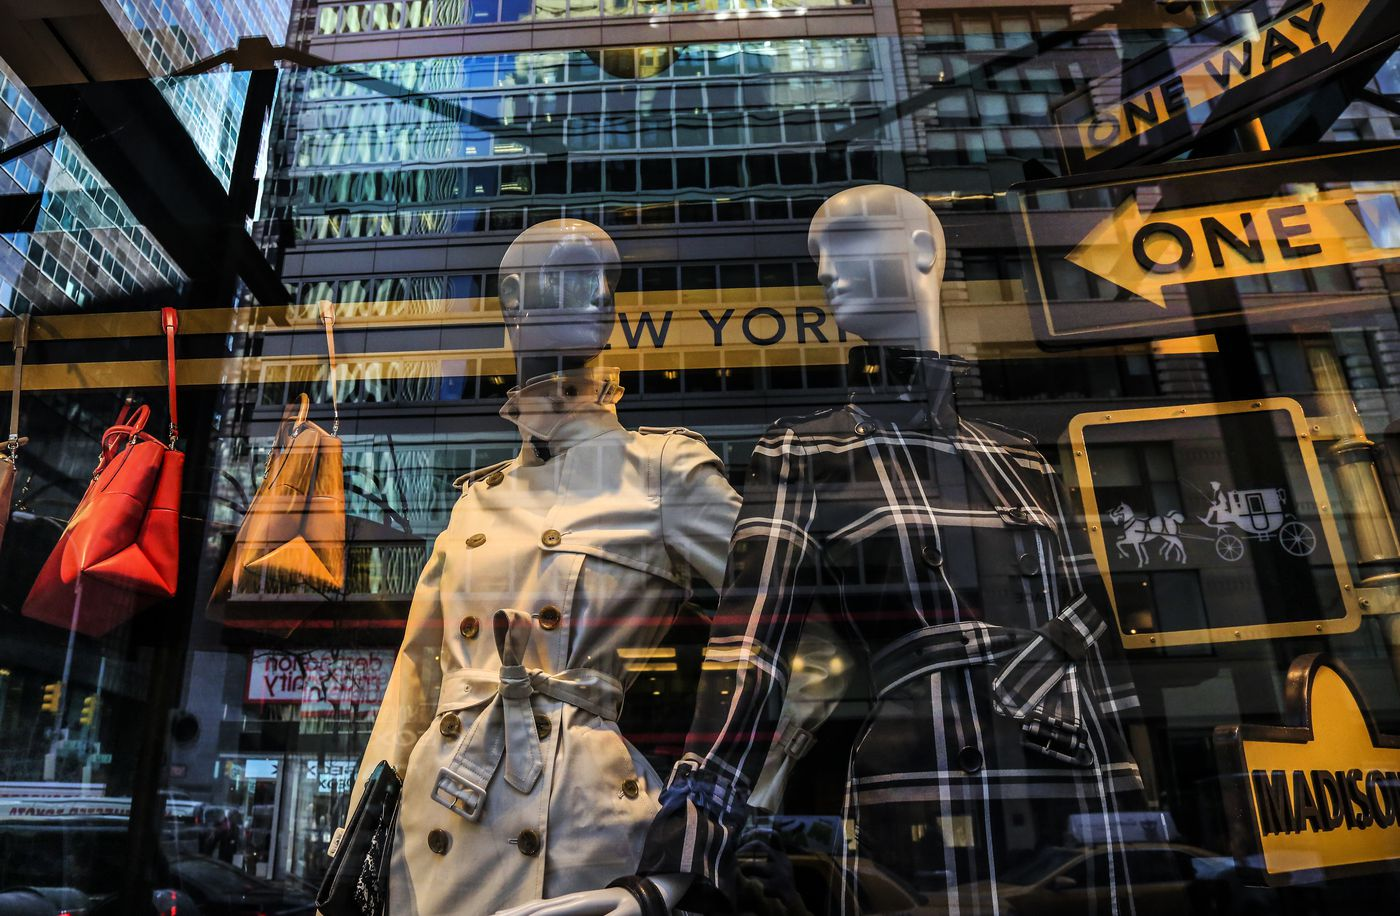person-like: (494, 173, 1205, 916), (315, 209, 851, 916)
